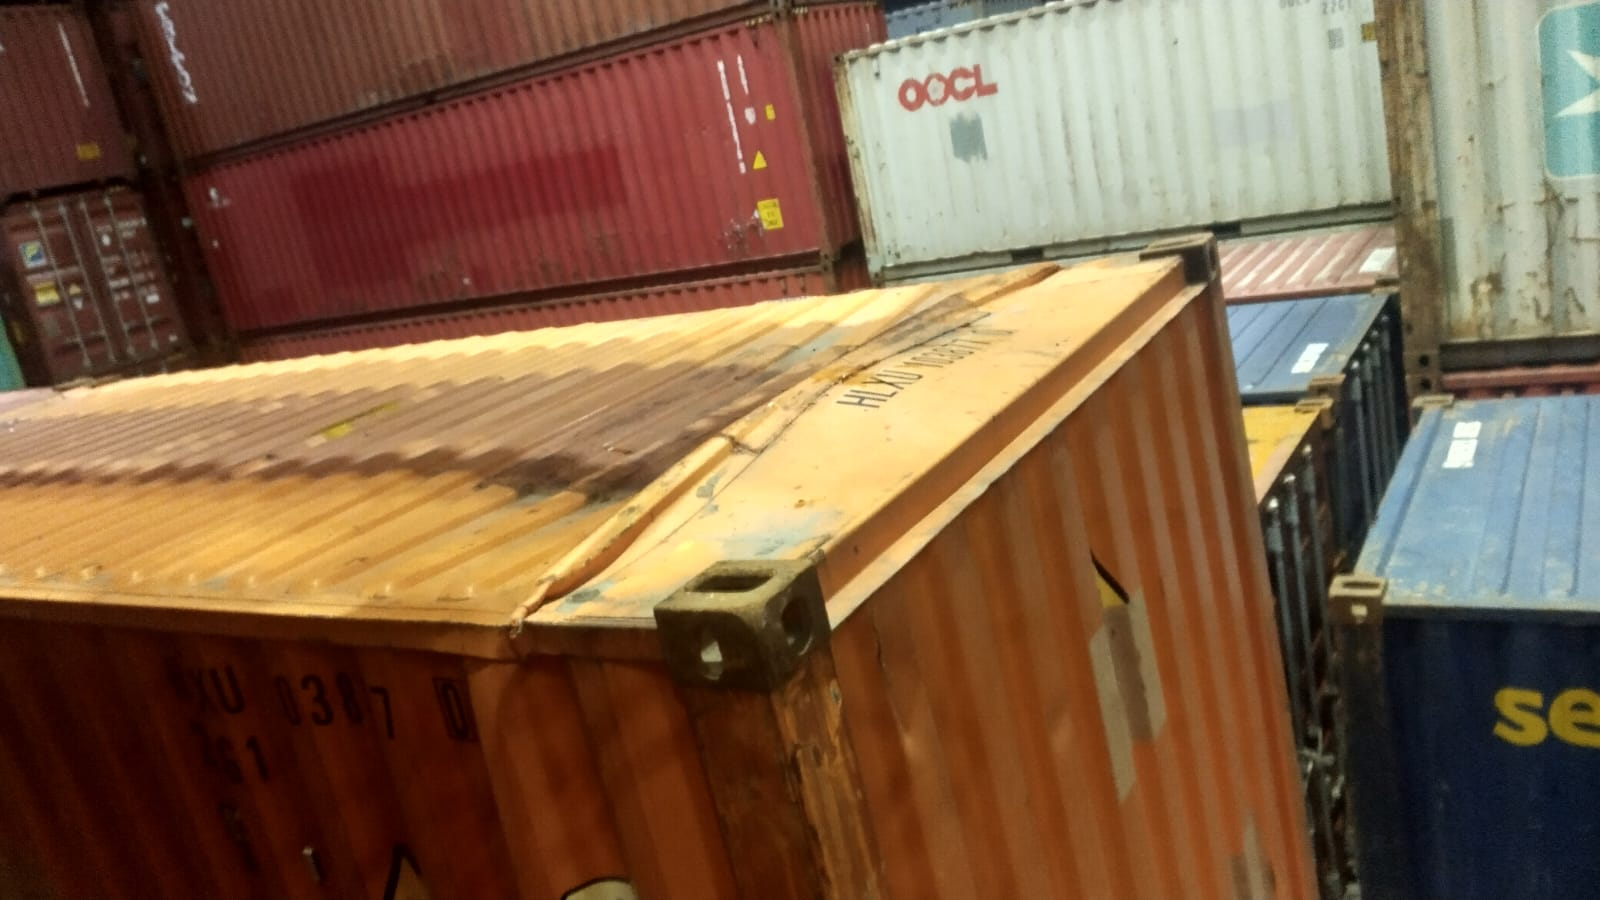moderate: (563, 310, 1035, 551)
severe: (1081, 543, 1155, 641)
